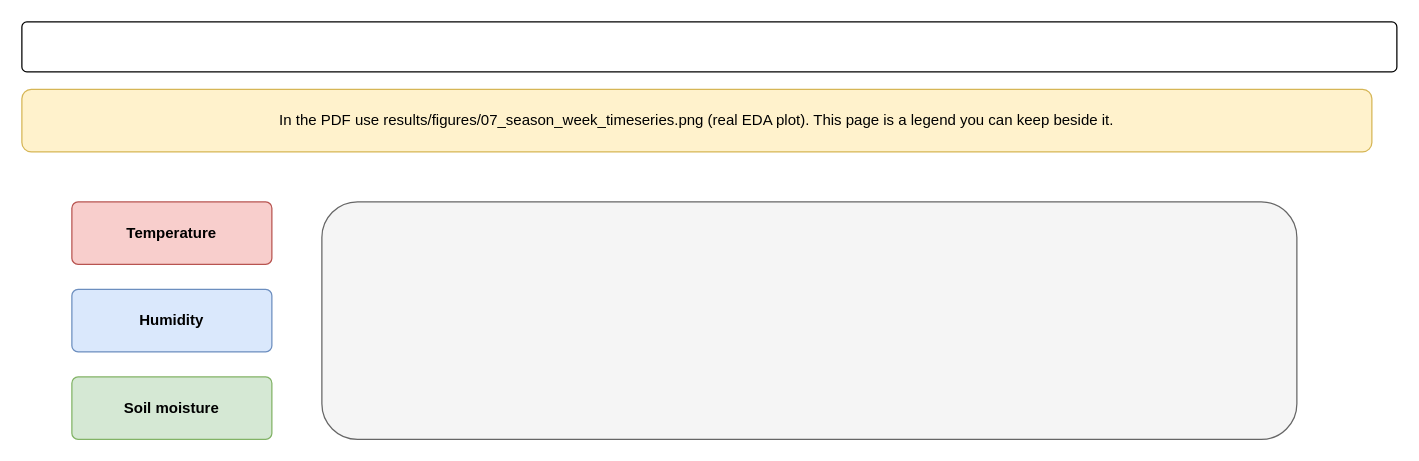
Some shapes in this 1419 by 461 pixel diagram are drawn without their labels. The shapes that lost their labels are listed below. From the top down, each one's centre as x and y in pixels, then its label:
At point 709,46: "Figure 7 — Sensor readings over time (Section 6.2)".
At point 809,320: "Time → (15 s live posts; simulated season used only for EDA diurnal plots)".
